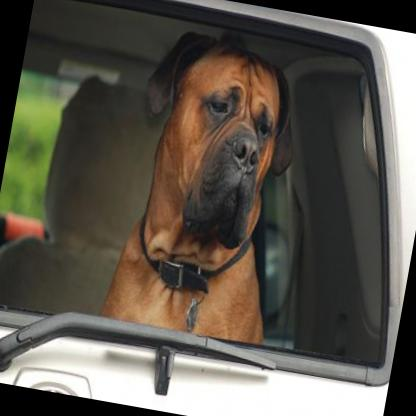bull_mastiff: (98, 15, 316, 349)
